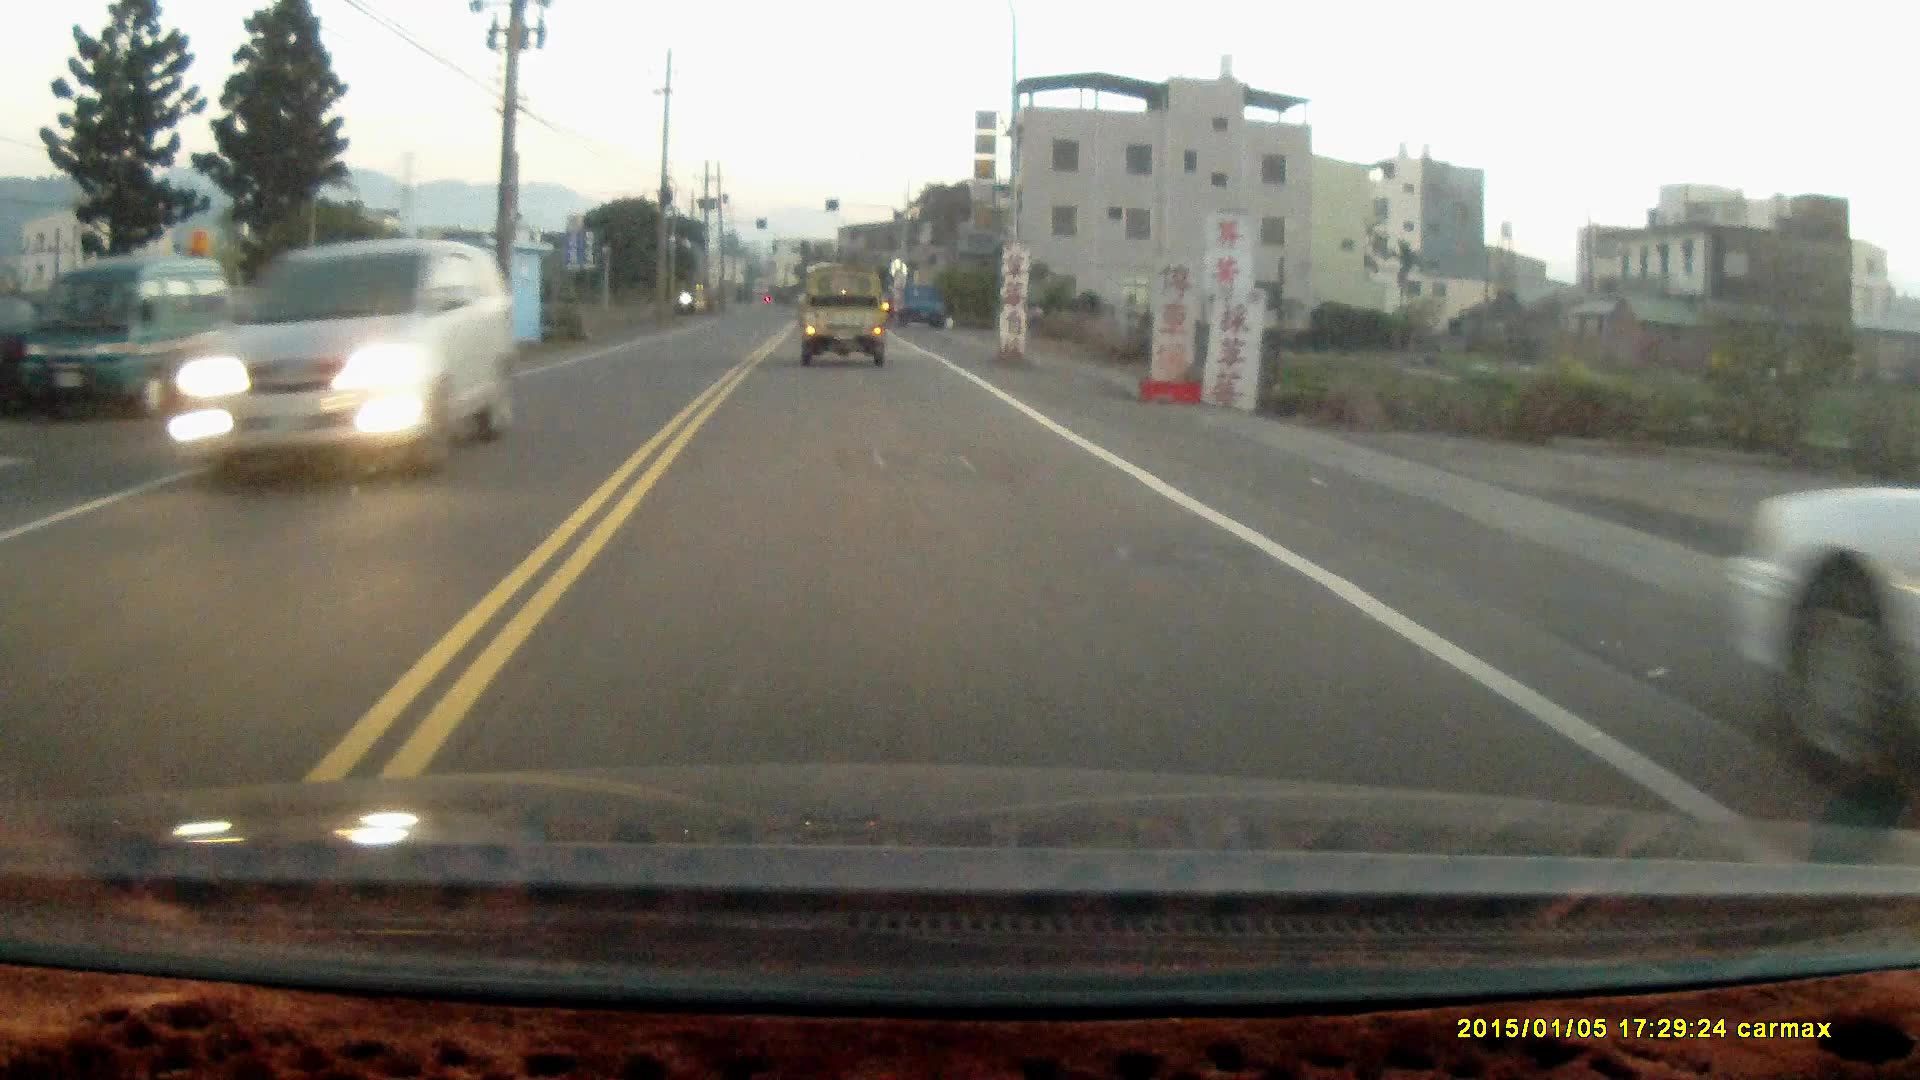vehicle: (178, 239, 522, 487), (1731, 458, 1920, 810), (15, 255, 237, 415), (800, 273, 893, 372), (898, 284, 949, 331)
